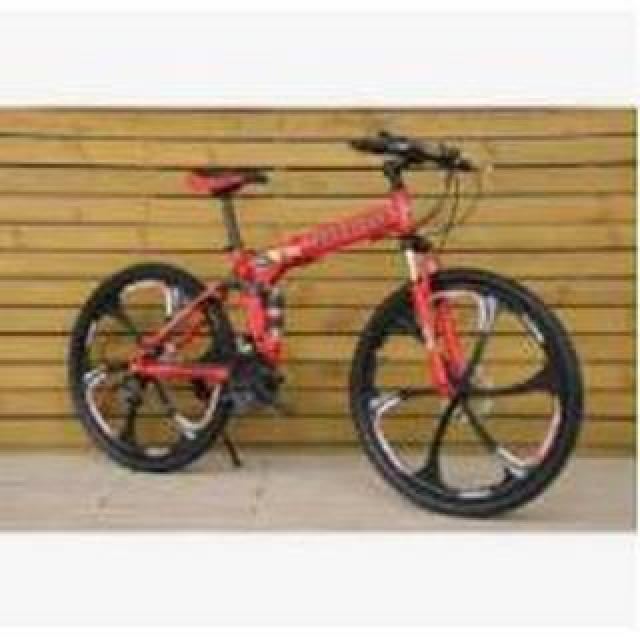Person: (65, 123, 585, 521)
